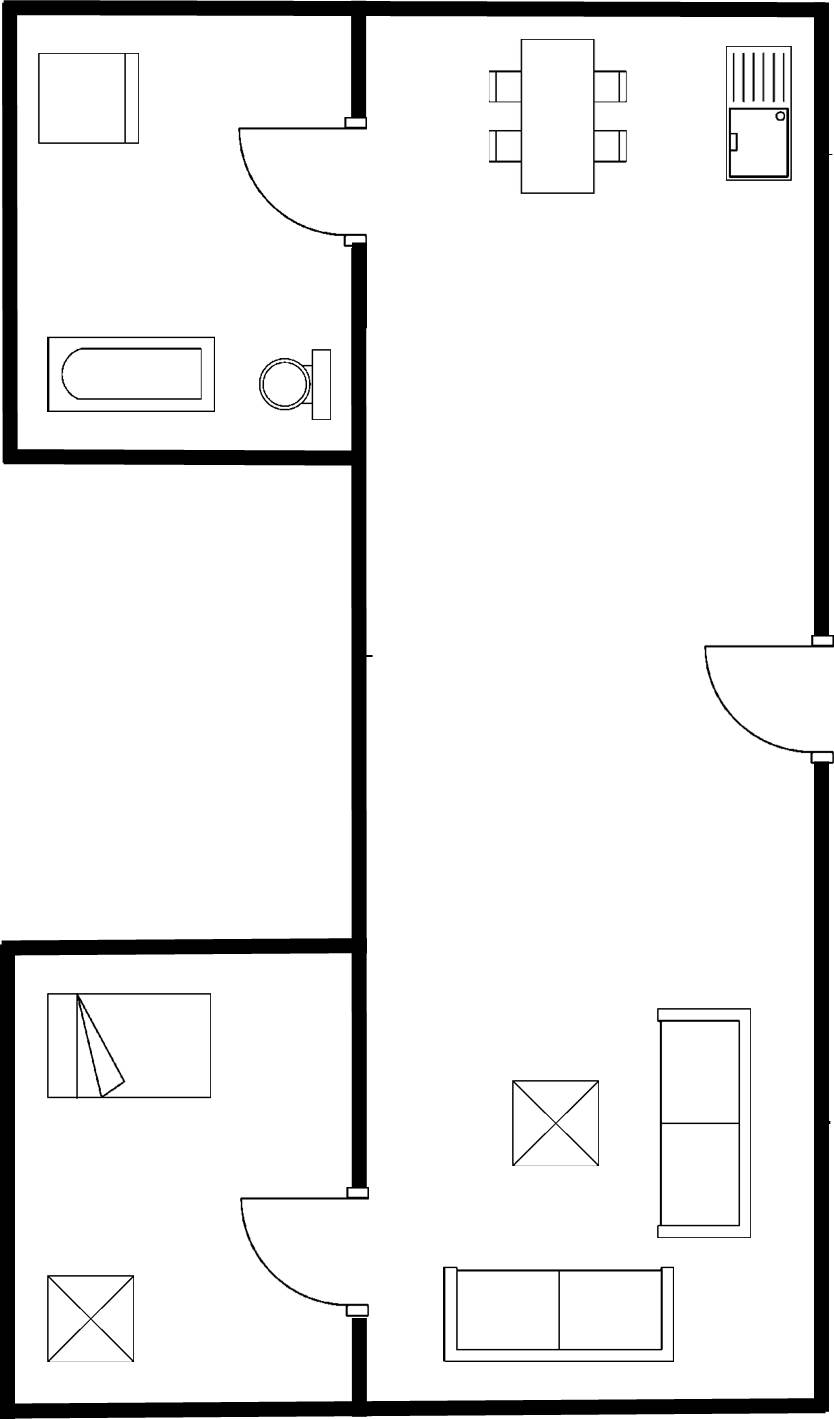bed: (39, 986, 220, 1107)
coffee_table: (39, 1267, 143, 1371), (503, 1071, 607, 1173)
dining_table: (484, 31, 634, 203)
large_sink: (250, 343, 339, 427)
large_sofa: (646, 1000, 757, 1245), (435, 1260, 682, 1367)
sink: (716, 36, 799, 189)
small_sofa: (32, 45, 146, 152)
tub: (41, 328, 224, 421)
